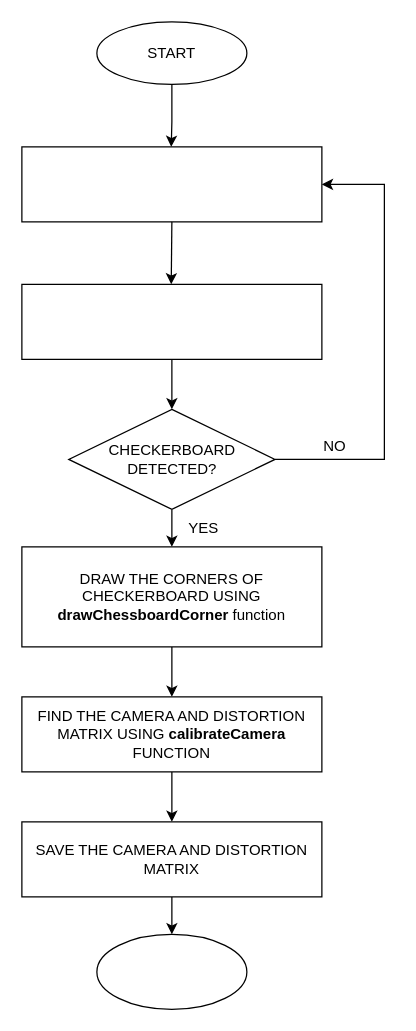
Image size: 416x1031. Some labels were removed from this diagram. The centre of each missing label's shape, as x and y in pixels:
"END" belongs at point 171,971.
"GRAB THE CHECKERBOARD IMAGES USING GLOB" belongs at point 171,184.
"USE findChessboardCorners FUNCTION TO GET THE CORNERS OF CHECKERBOARD." belongs at point 171,321.
